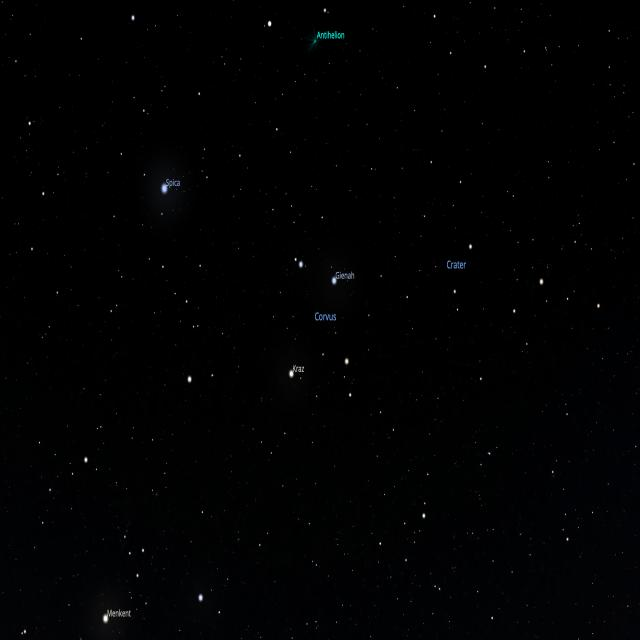Corvus: (285, 253, 359, 399)
